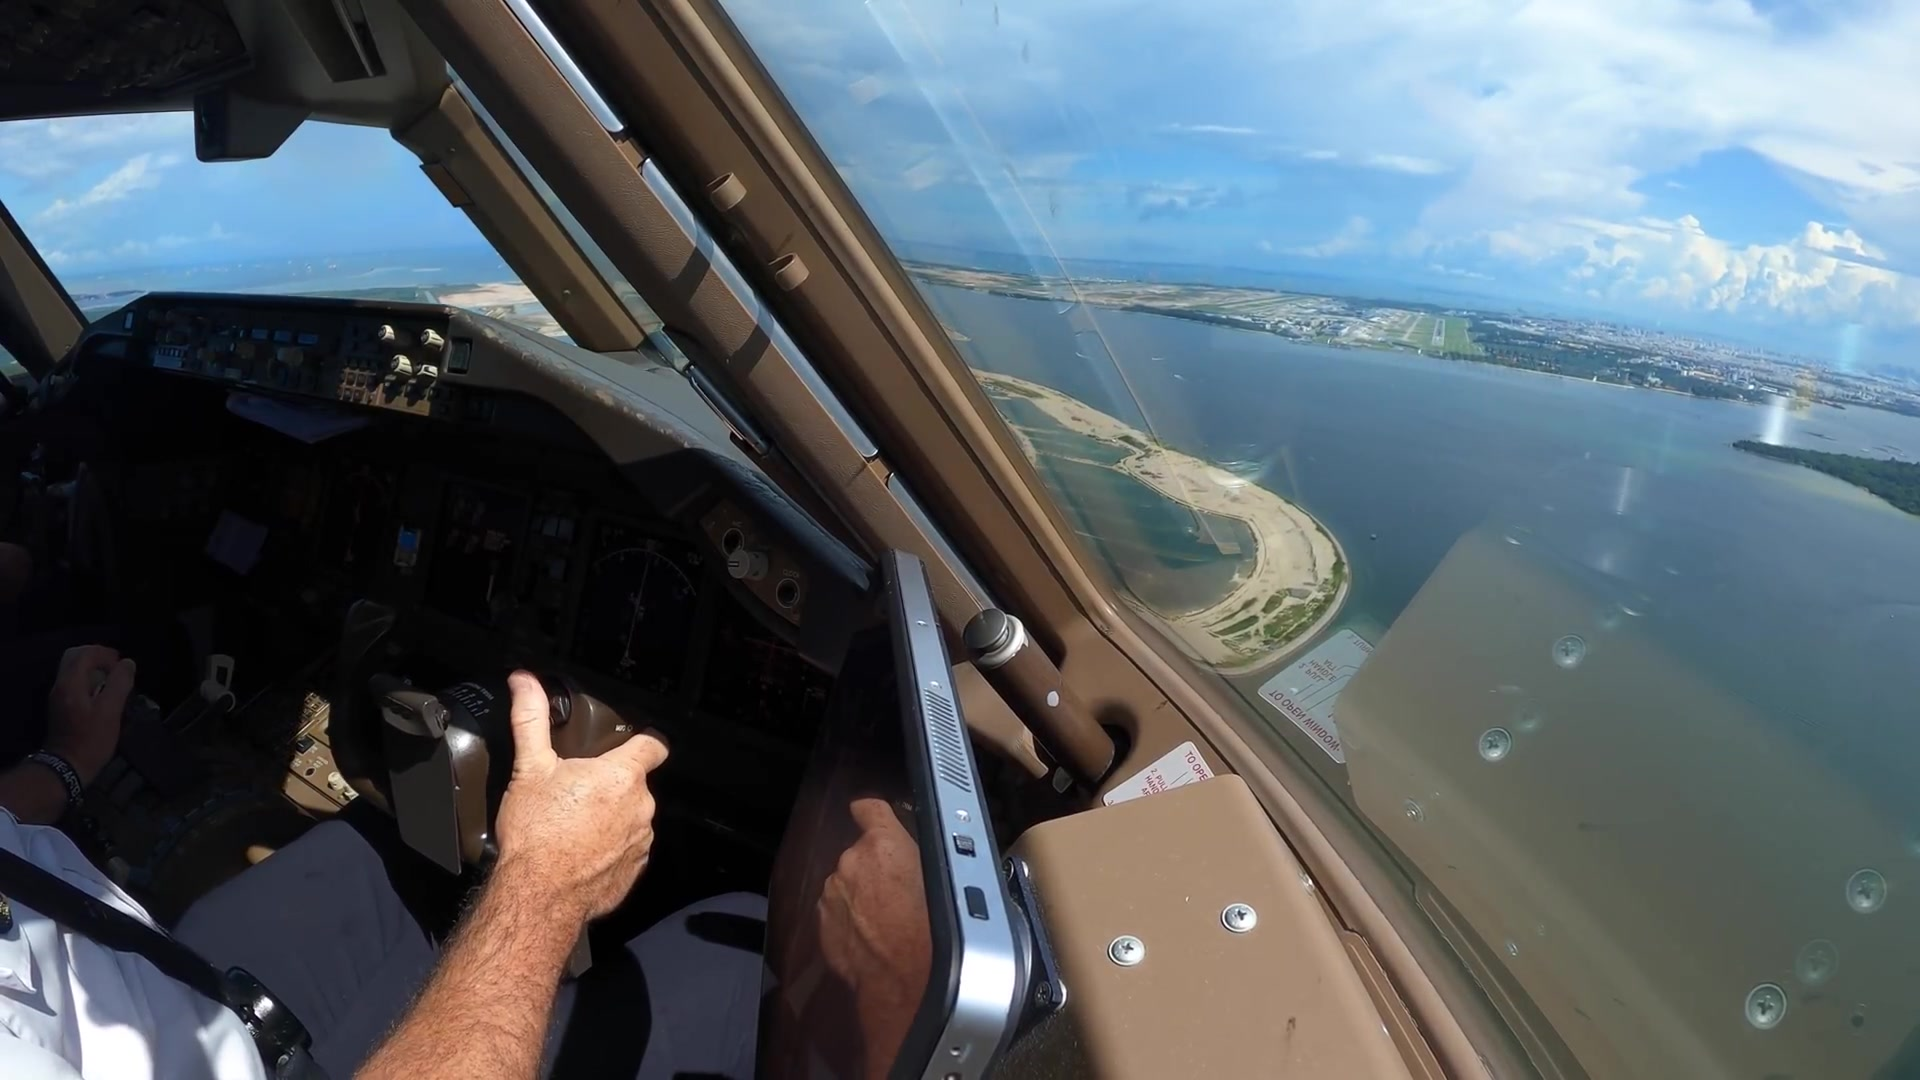runway: (1428, 316, 1447, 349)
